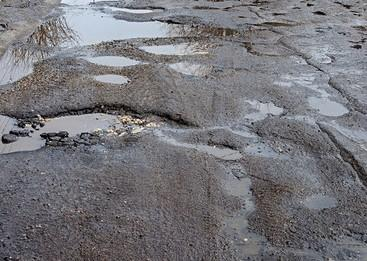crack: (317, 127, 367, 187)
pothole: (2, 0, 239, 92), (0, 100, 190, 154), (206, 158, 268, 261), (148, 123, 245, 166), (275, 65, 351, 118), (245, 18, 300, 57), (139, 40, 214, 60), (238, 96, 282, 124), (78, 50, 150, 67), (163, 60, 215, 82), (298, 189, 340, 211), (92, 73, 135, 90)
